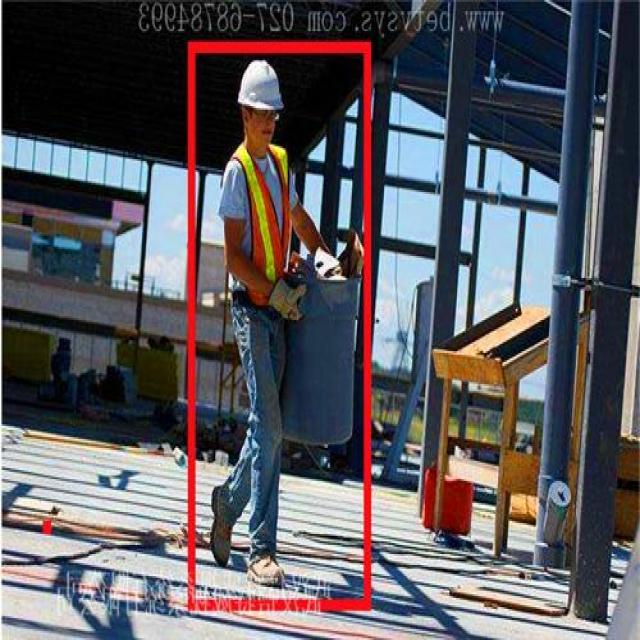reflective_jacket: (213, 138, 303, 314)
safety_helmet: (231, 55, 289, 121)
